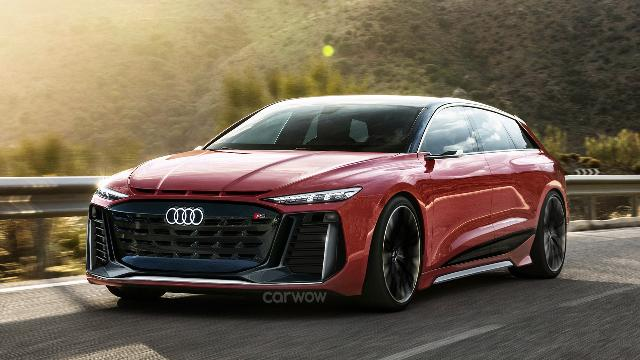audi: (85, 94, 570, 312)
